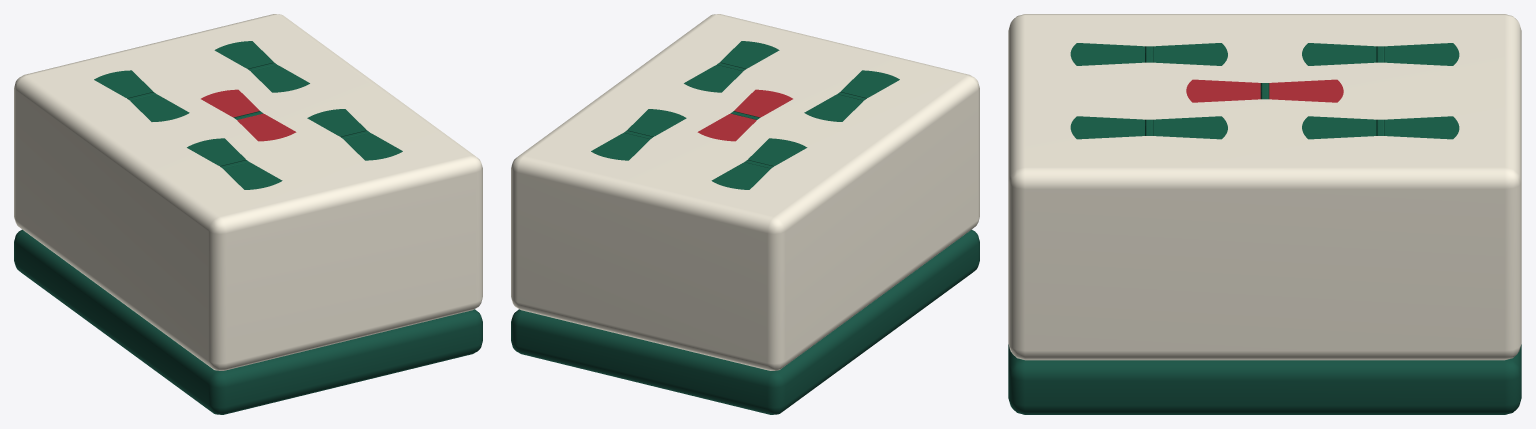
Rendered from suo-05.glb.
3 views of the same model, side by side, from view 1: azimuth 30°, elevation 25°; view 2: azimuth 150°, elevation 25°; view 3: azimuth 270°, elevation 25° (orthographic). The views are drawn at different scales.
Visible parts, largest first — view 1: suo-05_ivory, suo-05_back, suo-05_face_inlays; view 2: suo-05_ivory, suo-05_back, suo-05_face_inlays; view 3: suo-05_ivory, suo-05_back, suo-05_face_inlays.
Part boxes in pixels (bbox=[...]): suo-05_ivory: bbox=[14, 14, 482, 370]; suo-05_back: bbox=[14, 229, 482, 414]; suo-05_face_inlays: bbox=[94, 41, 402, 189]; suo-05_ivory: bbox=[511, 14, 979, 370]; suo-05_back: bbox=[511, 229, 979, 414]; suo-05_face_inlays: bbox=[591, 41, 899, 189]; suo-05_ivory: bbox=[1008, 14, 1521, 360]; suo-05_back: bbox=[1008, 344, 1521, 414]; suo-05_face_inlays: bbox=[1070, 43, 1459, 139].
Bounding box in the file's own units: 0.026 × 0.018 × 0.034.
